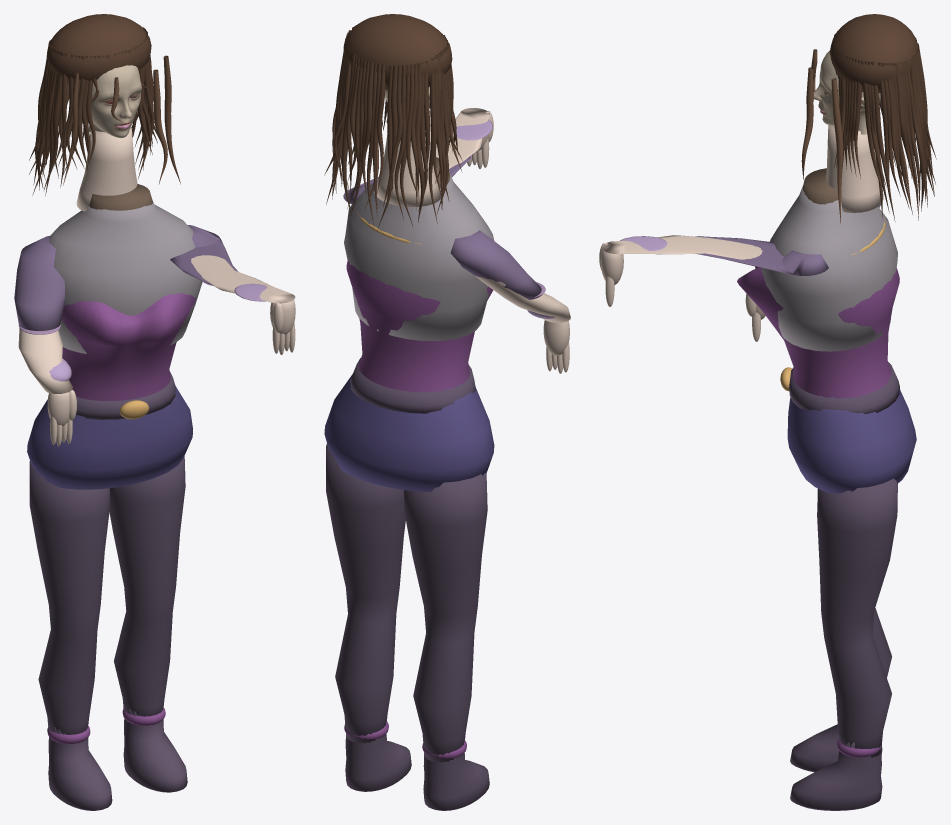
Rendered from katie_punch_2.glb.
3 renders of one model, left to right at view 1: azimuth 30°, elevation 25°; view 2: azimuth 150°, elevation 25°; view 3: azimuth 270°, elevation 25°, orthographic. The views are drawn at different scales.
Parts seen in each view (by area): view 1: Continuous trouser leg, Continuous trouser leg.001, Katie linen underlayer, Fitted hip panel, Violet sweetheart bodice, Katie hair locks, Katie hair crown, Katie smooth sleeve, Fitted boot, Fitted boot.001, Katie natural neck, Imported Katie katie (+7 smaller); view 2: Continuous trouser leg, Continuous trouser leg.001, Katie hair locks, Katie linen underlayer, Fitted hip panel, Violet sweetheart bodice, Katie hair crown, Fitted boot.001, Fitted boot, Katie smooth sleeve, Waist belt, Katie natural neck (+4 smaller); view 3: Continuous trouser leg.001, Katie linen underlayer, Fitted hip panel, Katie hair locks, Violet sweetheart bodice, Katie hair crown, Fitted boot.001, Katie natural neck, Continuous arm.001, Waist belt, Katie smooth sleeve.001, Katie highlighted locks (+5 smaller).
Boxes of the visible parts, x1=… form: Continuous trouser leg: x1=29, y1=461, x2=110, y2=734; Continuous trouser leg.001: x1=109, y1=456, x2=185, y2=716; Katie linen underlayer: x1=49, y1=202, x2=202, y2=353; Fitted hip panel: x1=27, y1=377, x2=192, y2=489; Violet sweetheart bodice: x1=61, y1=293, x2=196, y2=400; Katie hair locks: x1=29, y1=27, x2=159, y2=195; Katie hair crown: x1=46, y1=14, x2=151, y2=84; Katie smooth sleeve: x1=14, y1=235, x2=64, y2=334; Fitted boot: x1=48, y1=723, x2=112, y2=810; Fitted boot.001: x1=123, y1=704, x2=187, y2=792; Katie natural neck: x1=76, y1=127, x2=137, y2=211; Imported Katie katie: x1=88, y1=65, x2=141, y2=137; Continuous trouser leg: x1=404, y1=473, x2=487, y2=762; Continuous trouser leg.001: x1=326, y1=444, x2=405, y2=743; Katie hair locks: x1=324, y1=27, x2=462, y2=230; Katie linen underlayer: x1=344, y1=173, x2=494, y2=340; Fitted hip panel: x1=324, y1=374, x2=494, y2=491; Violet sweetheart bodice: x1=346, y1=260, x2=493, y2=392; Katie hair crown: x1=343, y1=14, x2=452, y2=90; Fitted boot.001: x1=345, y1=719, x2=411, y2=791; Fitted boot: x1=423, y1=739, x2=489, y2=810; Katie smooth sleeve: x1=450, y1=230, x2=542, y2=299; Waist belt: x1=350, y1=358, x2=476, y2=413; Katie natural neck: x1=374, y1=111, x2=441, y2=206; Continuous trouser leg.001: x1=817, y1=478, x2=897, y2=757; Katie linen underlayer: x1=761, y1=185, x2=897, y2=351; Fitted hip panel: x1=787, y1=390, x2=916, y2=493; Katie hair locks: x1=833, y1=29, x2=936, y2=221; Violet sweetheart bodice: x1=737, y1=266, x2=899, y2=398; Katie hair crown: x1=829, y1=14, x2=918, y2=93; Fitted boot.001: x1=790, y1=742, x2=882, y2=810; Katie natural neck: x1=826, y1=125, x2=883, y2=212; Continuous arm.001: x1=602, y1=235, x2=762, y2=259; Waist belt: x1=789, y1=362, x2=899, y2=413; Katie smooth sleeve.001: x1=696, y1=236, x2=828, y2=275; Katie highlighted locks: x1=801, y1=49, x2=910, y2=223.
Size of the model in its own units: 0.6197 by 2.24 by 0.8988.
Materials: 15 (2 with a texture image).
